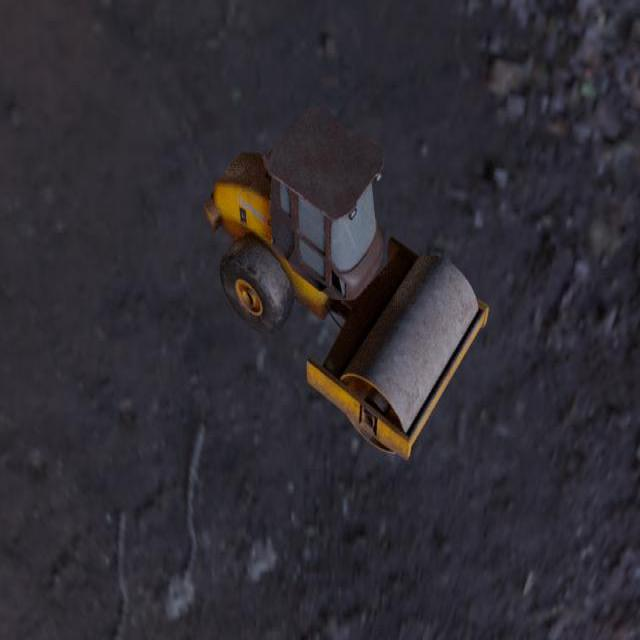Roller: (203, 105, 488, 460)
